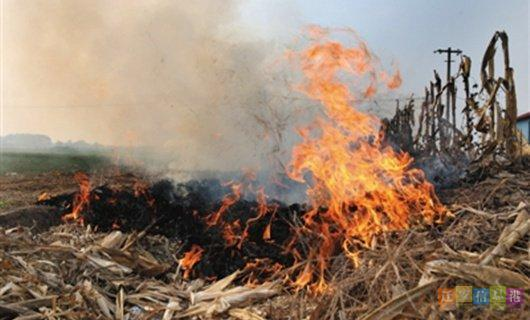fire: (271, 17, 457, 268), (214, 171, 271, 246), (247, 247, 333, 293), (60, 173, 94, 226), (177, 242, 201, 277)
